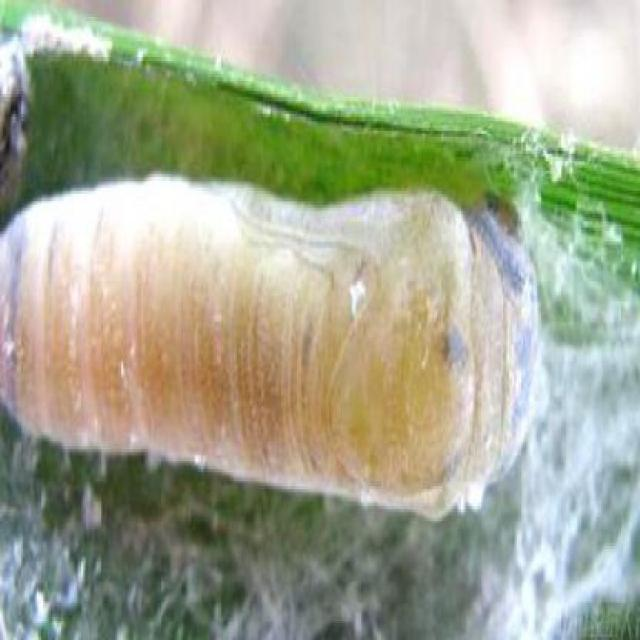leaf-folder: (14, 83, 578, 555)
